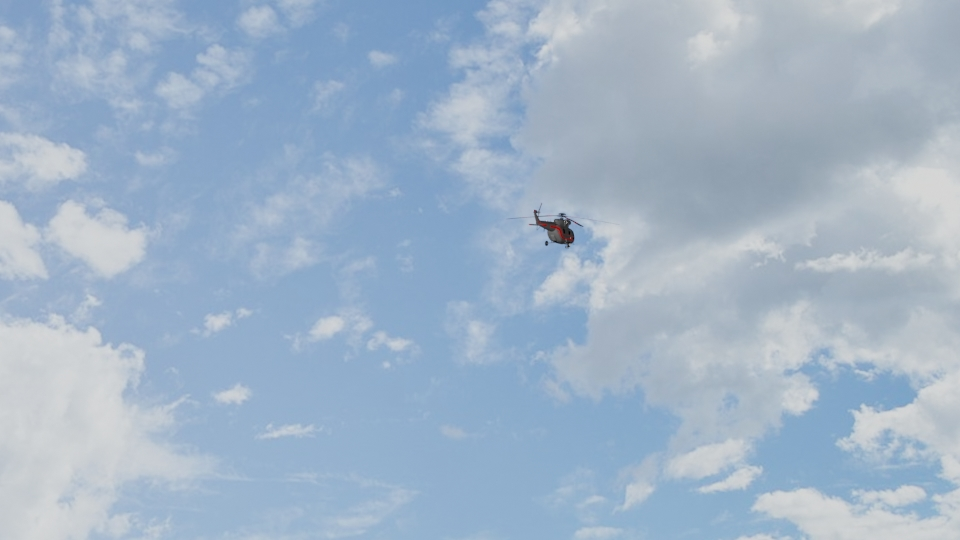heli: (527, 202, 585, 249)
